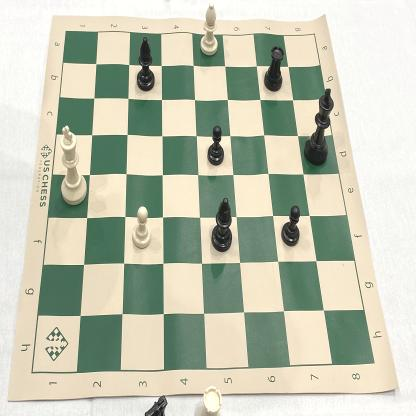black-bishop: (207, 193, 238, 255), (134, 34, 160, 96)
black-king: (302, 82, 335, 172)
black-pawn: (277, 200, 302, 251), (204, 121, 230, 169)
black-rook: (262, 42, 288, 94)
white-bishop: (200, 0, 225, 60)
white-king: (57, 115, 93, 211)
white-pawn: (130, 200, 156, 250)
